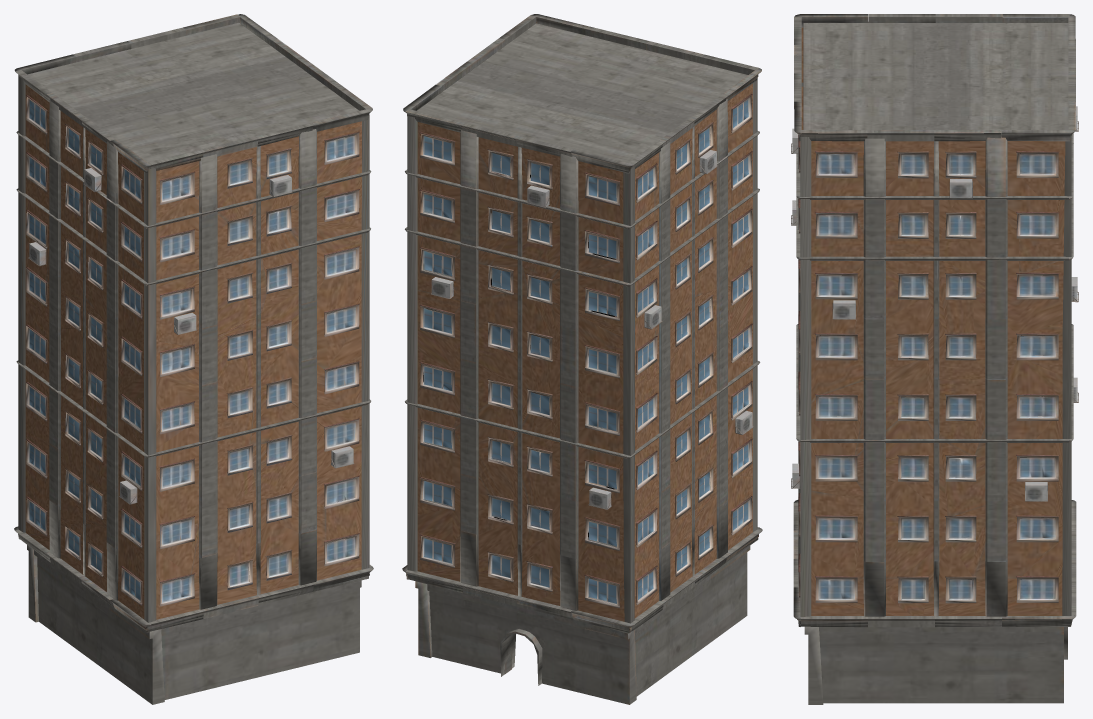
File: building-small.glb
3 renders of one model, left to right at view 1: azimuth 30°, elevation 25°; view 2: azimuth 150°, elevation 25°; view 3: azimuth 270°, elevation 25°, orthographic. The views are drawn at different scales.
Visible parts, largest first — view 1: Building-Small_Bake1_PBR; view 2: Building-Small_Bake1_PBR; view 3: Building-Small_Bake1_PBR.
Boxes of the visible parts, left/top/right/bottom form: Building-Small_Bake1_PBR: left=14, top=14, right=373, bottom=704; Building-Small_Bake1_PBR: left=402, top=14, right=762, bottom=704; Building-Small_Bake1_PBR: left=791, top=14, right=1078, bottom=704.
Bounding box in the file's own units: 12.89 × 28.5 × 12.89.
1 material, 1 textured.
